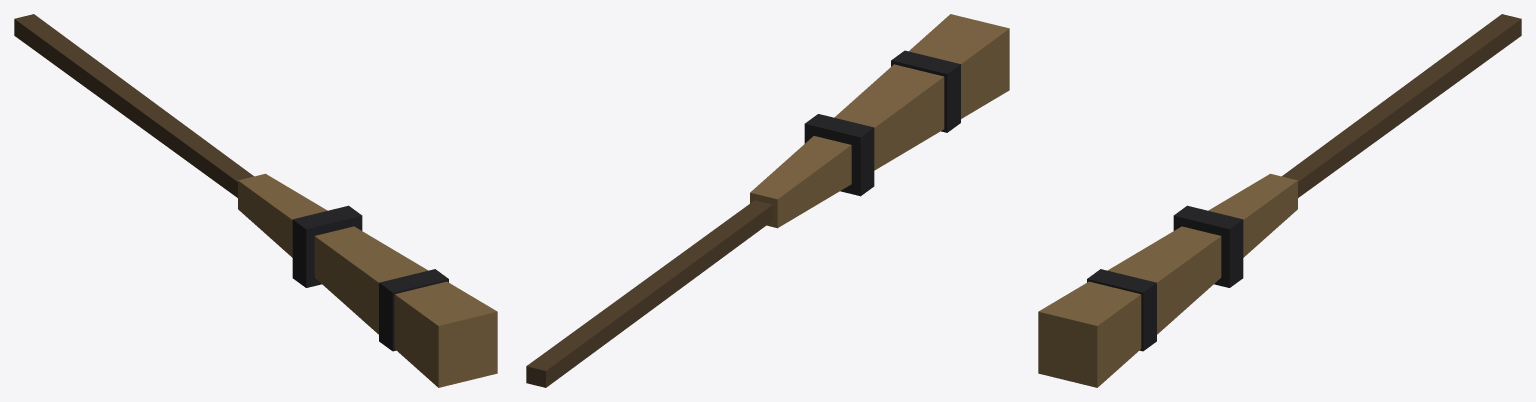
Rendered from wtype_club.glb.
3 renders of one model, left to right at view 1: azimuth 30°, elevation 25°; view 2: azimuth 150°, elevation 25°; view 3: azimuth 330°, elevation 25°, orthographic.
Parts seen in each view (by area): view 1: wtype_club; view 2: wtype_club; view 3: wtype_club.
Boxes of the visible parts, box(x1,y1,x2,y2) form: wtype_club: box(14, 14, 497, 387); wtype_club: box(526, 14, 1009, 387); wtype_club: box(1038, 14, 1521, 387).
Bounding box in the file's own units: 0.06 × 0.06 × 0.78.
